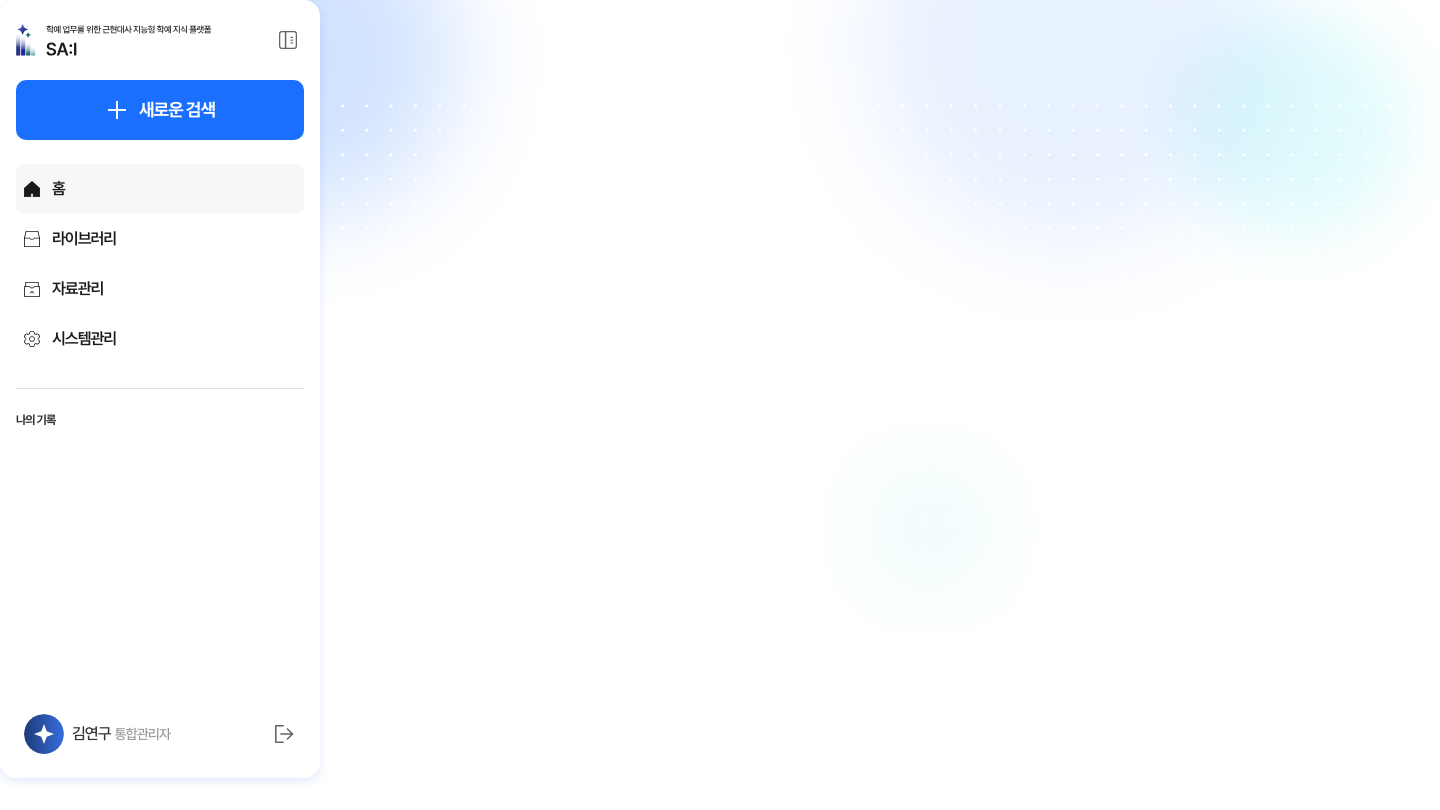
LNB: 토글 aria-label이 메뉴 접기 ↔ 메뉴 펼치기로 바뀐다
Click the button named "메뉴 접기". click: (288, 40)
box: [272,24,304,56]
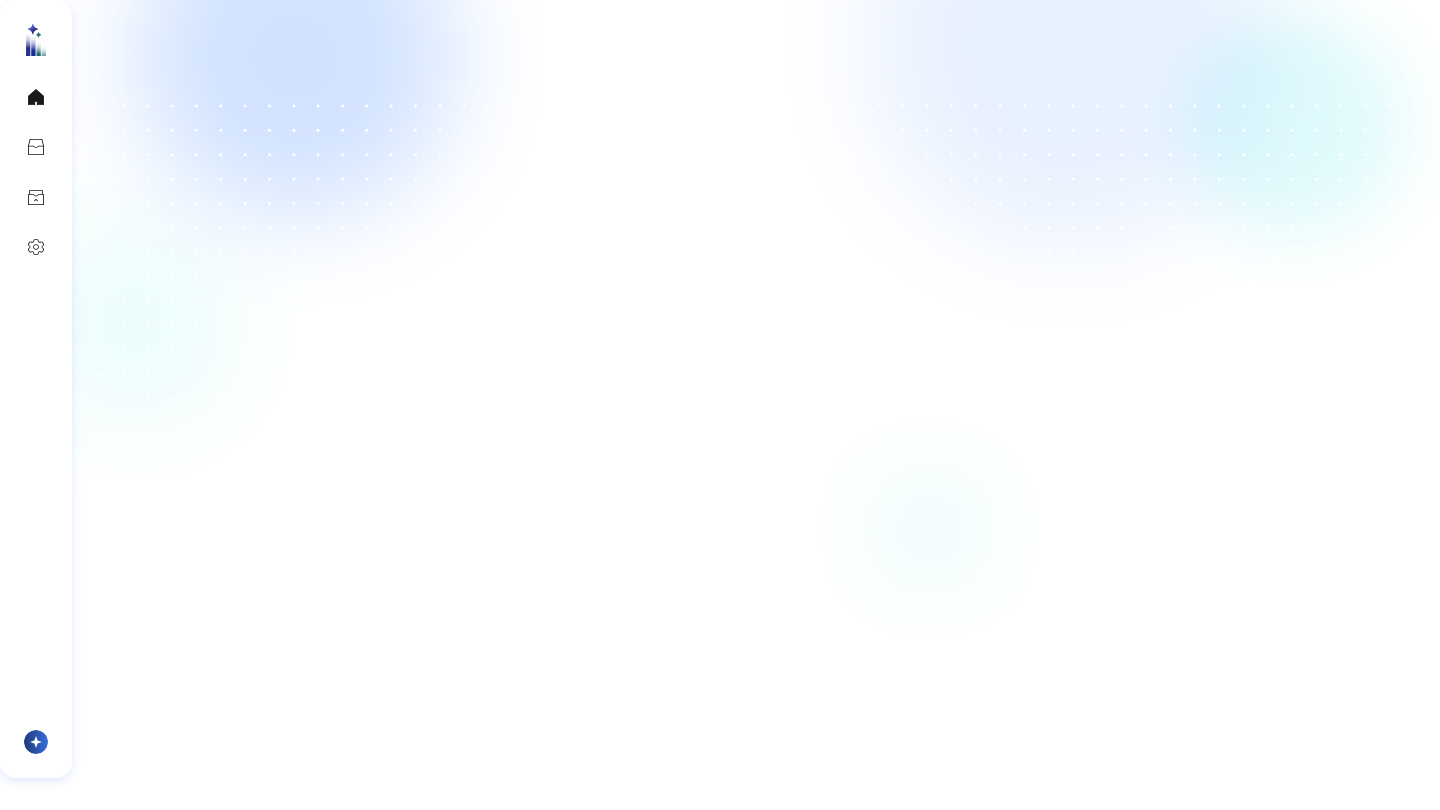
Expected: the button named "메뉴 펼치기" is shown
Click the button named "메뉴 펼치기". click: (36, 40)
box: [20,24,52,56]
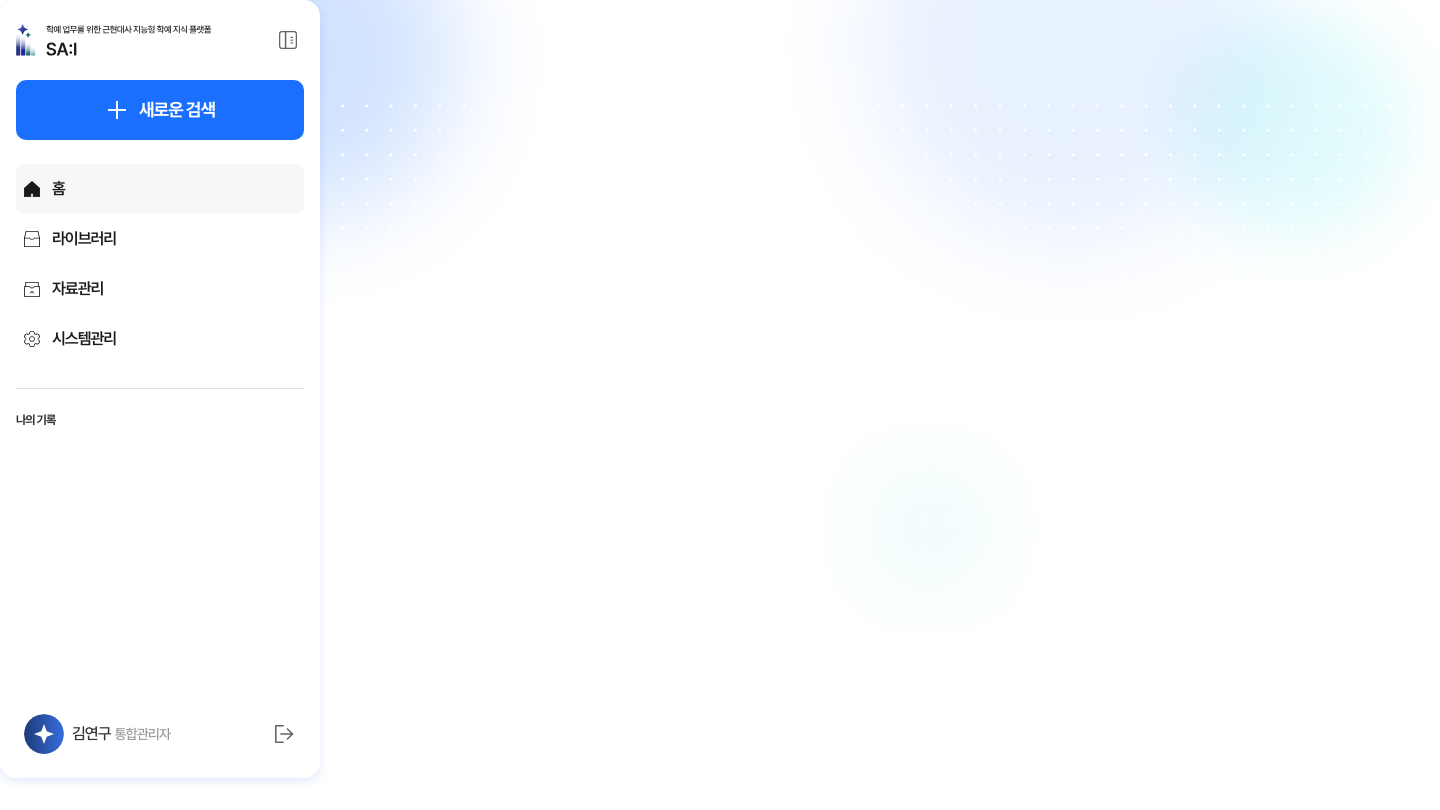
Expected: the button named "메뉴 접기" is shown, [272,24,304,56]
